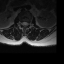CCS_normal: (23, 19, 25, 28)
LFS_normal: (28, 20, 30, 27)
LLS_normal: (25, 19, 28, 27)
RFS_normal: (19, 19, 21, 26)
RLS_normal: (21, 19, 23, 27)
